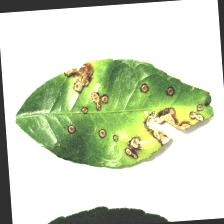canker: (59, 58, 210, 158)
